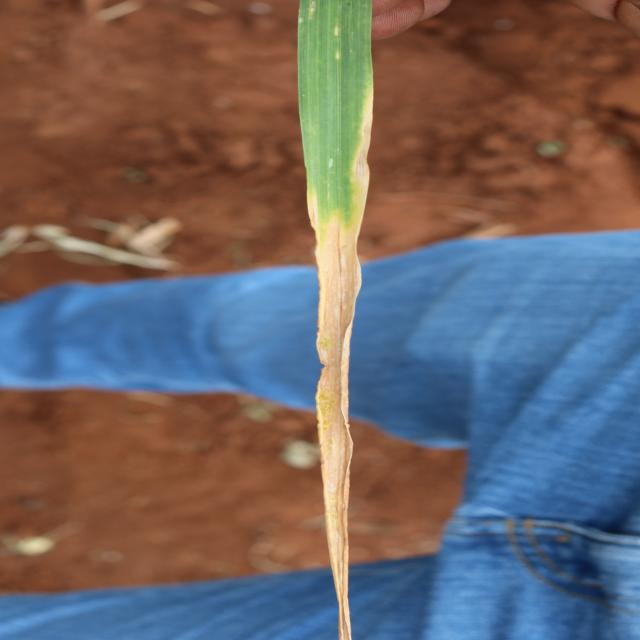Septoria: (296, 1, 376, 638)
